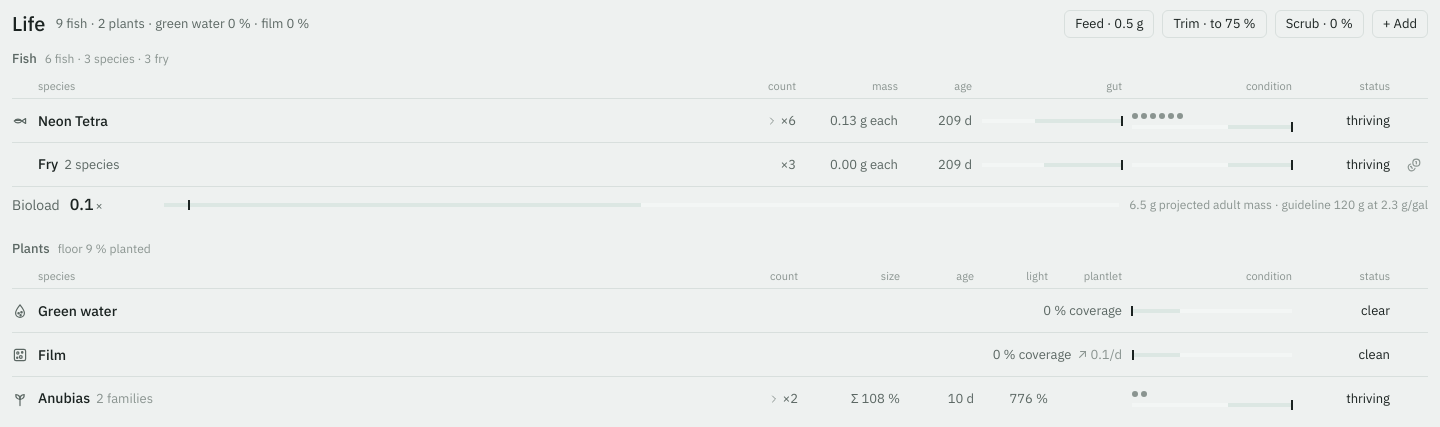
LifeSection › sells the whole tank’s fry from the one row they share
Expected: the text "Fry" is shown, x1=38 y1=155 x2=58 y2=173
Expected: the text "2 species" is shown, x1=64 y1=156 x2=119 y2=173
Click the button named "Sell all fry (3)" at (1414, 164), box x1=1402 y1=152 x2=1426 y2=176
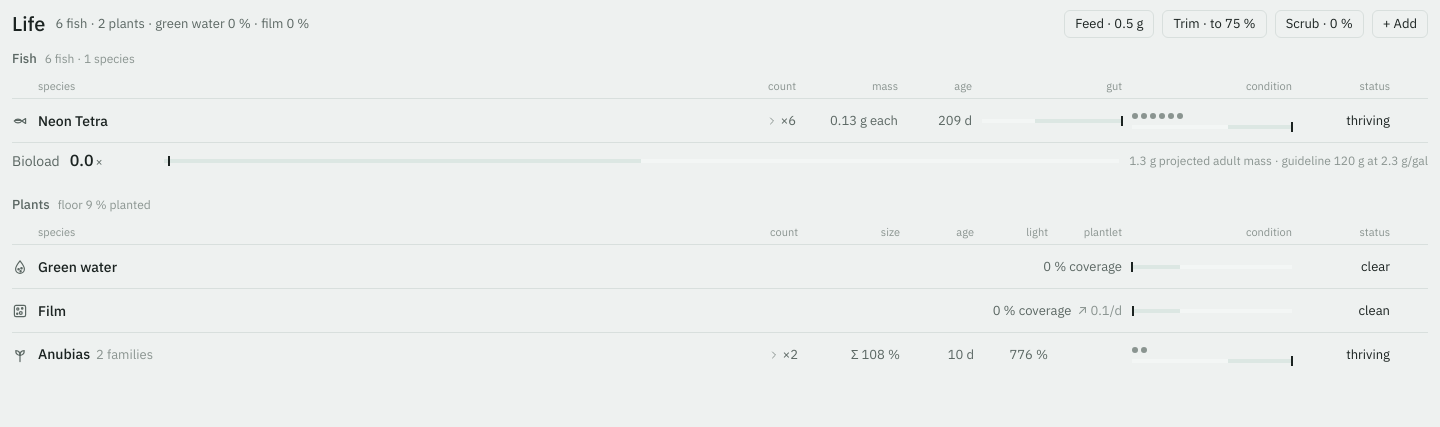
Expected: the text "fry" is gone
